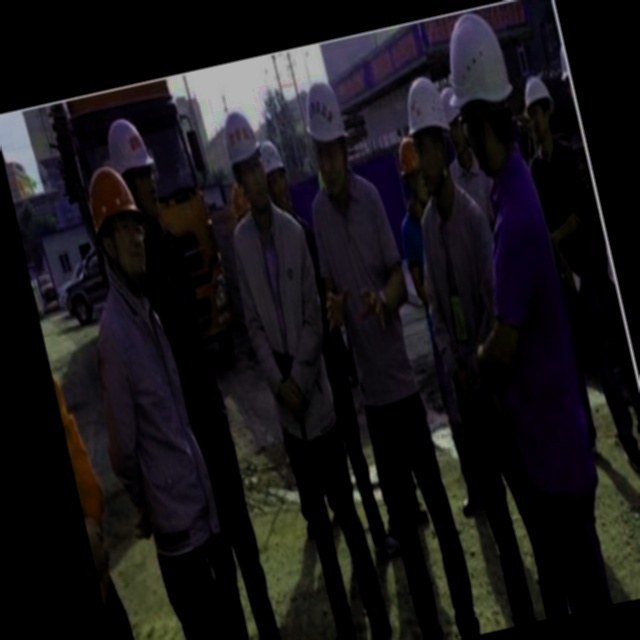Sin_Chaleco: (302, 171, 426, 400), (224, 204, 346, 436)
